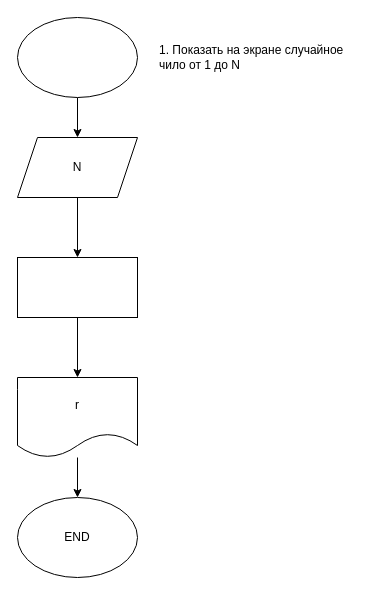
Some shapes in this 375 by 595 pixel diagram are drawn without their labels. The centre of each missing label's shape, as x and y in pixels:
r=random(1,N): the point at 77,287
STSRT: the point at 77,57
